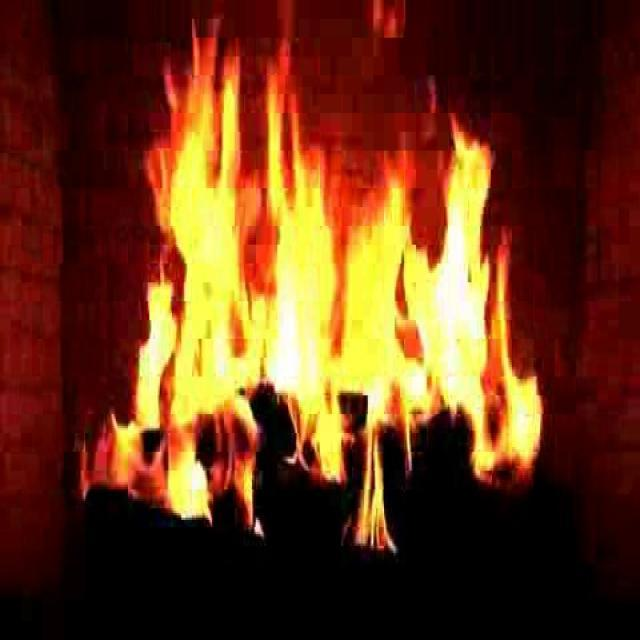Fire: (99, 0, 618, 551)
